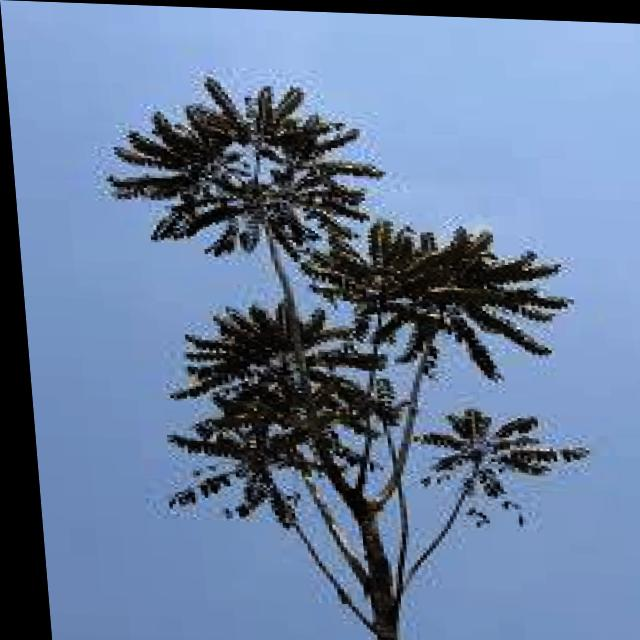Polyscias fulva: (73, 63, 583, 640)
